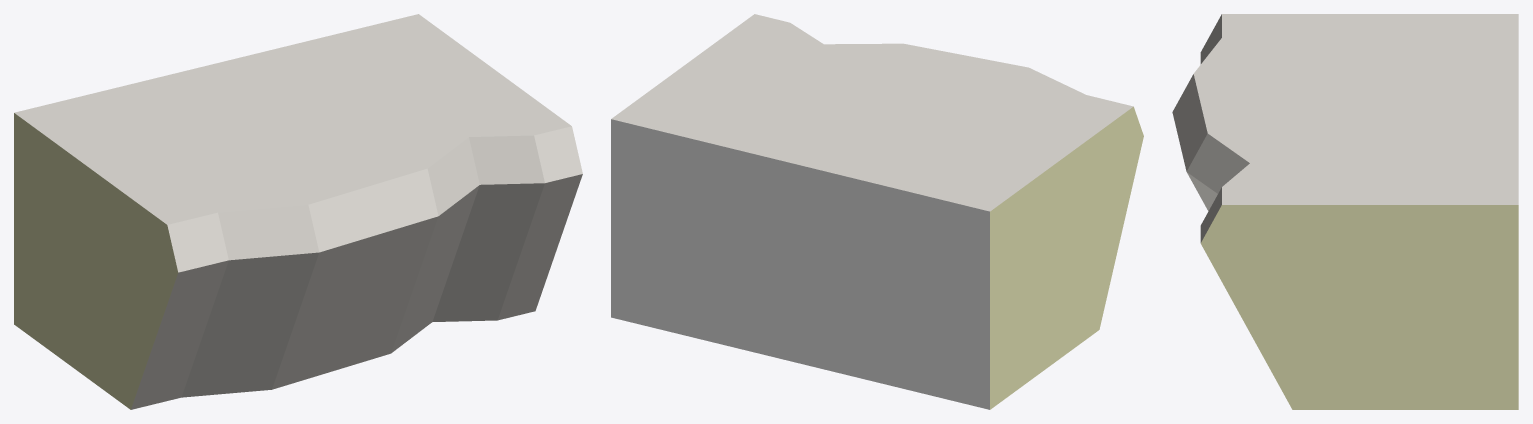
Rendered from Cracked_Straight_2x2_1_Top.fbx.
3 views of the same model, side by side, from view 1: azimuth 30°, elevation 25°; view 2: azimuth 150°, elevation 25°; view 3: azimuth 270°, elevation 25° (orthographic). The views are drawn at different scales.
Parts seen in each view (by area): view 1: Cracked_Straight_2x2_1_Top; view 2: Cracked_Straight_2x2_1_Top; view 3: Cracked_Straight_2x2_1_Top.
Part boxes in pixels (x1,y1,x2,y2): Cracked_Straight_2x2_1_Top: (14, 14, 582, 409); Cracked_Straight_2x2_1_Top: (611, 14, 1143, 409); Cracked_Straight_2x2_1_Top: (1172, 14, 1518, 409).
Size of the model in its own units: 200 by 100 by 153.
